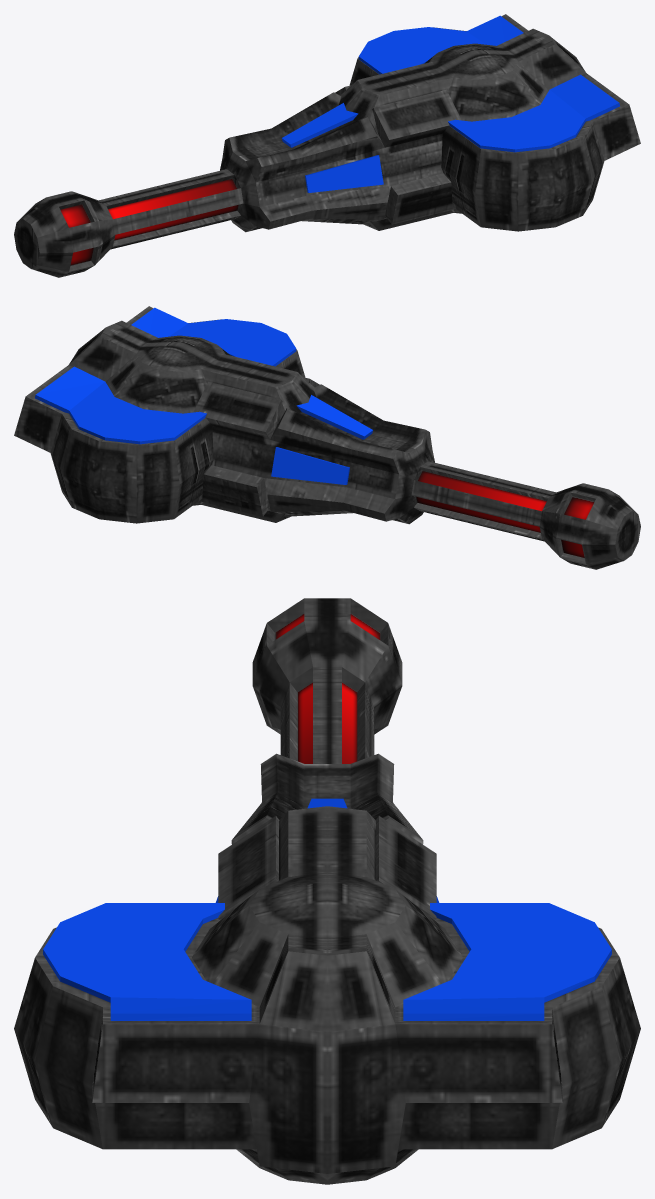
The model's file is generic_LaserCannnon1.FBX.
3 views of the same model, one above another, from view 1: azimuth 30°, elevation 25°; view 2: azimuth 150°, elevation 25°; view 3: azimuth 270°, elevation 25° (orthographic). The views are drawn at different scales.
Parts seen in each view (by area): view 1: BasicLaserCannon, PlayerColoring; view 2: BasicLaserCannon, PlayerColoring; view 3: BasicLaserCannon, PlayerColoring.
Part boxes in pixels (x1,y1,x2,y2): BasicLaserCannon: (14,14,640,277); PlayerColoring: (282,15,619,192); BasicLaserCannon: (14,306,640,569); PlayerColoring: (35,307,372,484); BasicLaserCannon: (14,598,640,1184); PlayerColoring: (43,798,611,1020).
Bounding box in the file's own units: 38.06 × 20.32 × 10.16.
